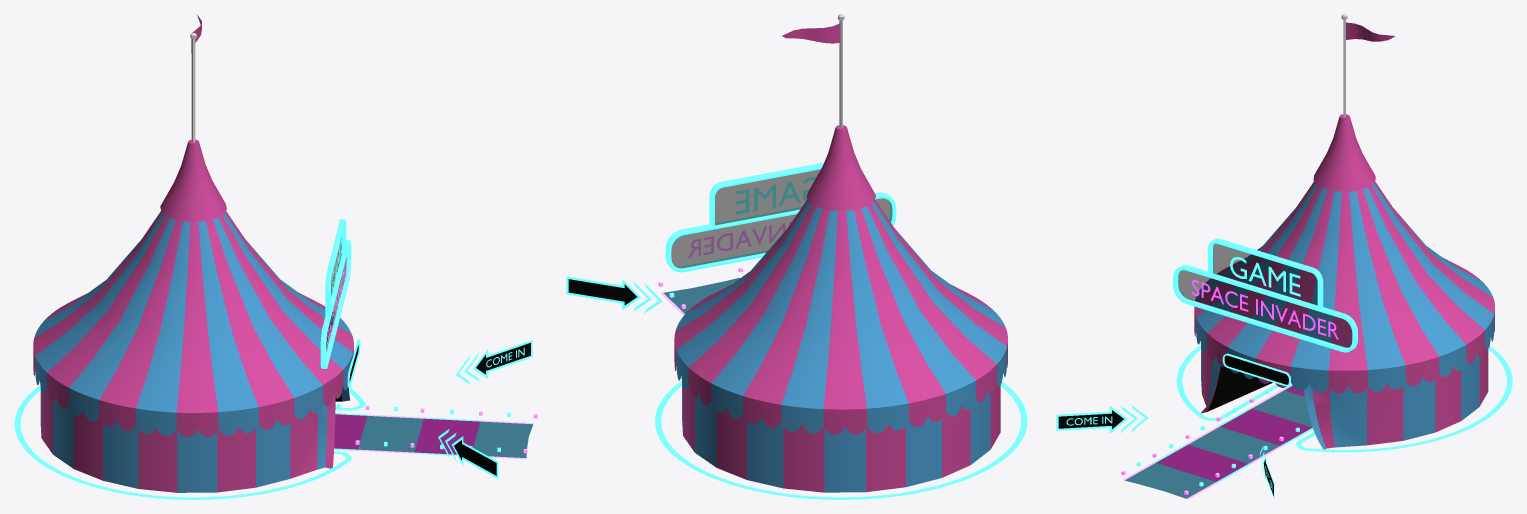
File: tentGame2.glb
3 renders of one model, left to right at view 1: azimuth 30°, elevation 25°; view 2: azimuth 150°, elevation 25°; view 3: azimuth 270°, elevation 25°, orthographic. The views are drawn at different scales.
Visible parts, largest first — view 1: tentGame2, Plane.022, Plane.027, Plane.002, Plane.003; view 2: tentGame2, Plane.004, Plane.005, Plane.002, Plane.027, Plane.022, Plane.003, Text.006, Text.007; view 3: tentGame2, Plane.022, Plane.004, Plane.005, Plane.002, Plane.027, Plane.003, Text.007, Plane.035, Text.006.
Part boxes in pixels (bbox=[...]): tentGame2: bbox=[14, 15, 365, 499]; Plane.022: bbox=[334, 404, 537, 459]; Plane.027: bbox=[438, 340, 532, 478]; Plane.002: bbox=[320, 240, 351, 368]; Plane.003: bbox=[325, 219, 346, 316]; tentGame2: bbox=[655, 14, 1027, 499]; Plane.004: bbox=[671, 198, 892, 268]; Plane.005: bbox=[715, 169, 820, 225]; Plane.002: bbox=[665, 192, 896, 272]; Plane.027: bbox=[566, 276, 662, 313]; Plane.022: bbox=[658, 267, 743, 315]; Plane.003: bbox=[709, 162, 823, 226]; Text.006: bbox=[736, 177, 816, 214]; Text.007: bbox=[688, 222, 791, 257]; tentGame2: bbox=[1176, 14, 1512, 452]; Plane.022: bbox=[1121, 384, 1312, 499]; Plane.004: bbox=[1178, 270, 1352, 347]; Plane.005: bbox=[1213, 243, 1317, 305]; Plane.002: bbox=[1173, 265, 1357, 352]; Plane.027: bbox=[1056, 405, 1274, 498]; Plane.003: bbox=[1208, 238, 1323, 308]; Text.007: bbox=[1191, 280, 1338, 339]; Plane.035: bbox=[1224, 355, 1288, 384]; Text.006: bbox=[1230, 257, 1300, 296].
Bounding box in the file's own units: 1.95 × 1.62 × 1.8.
